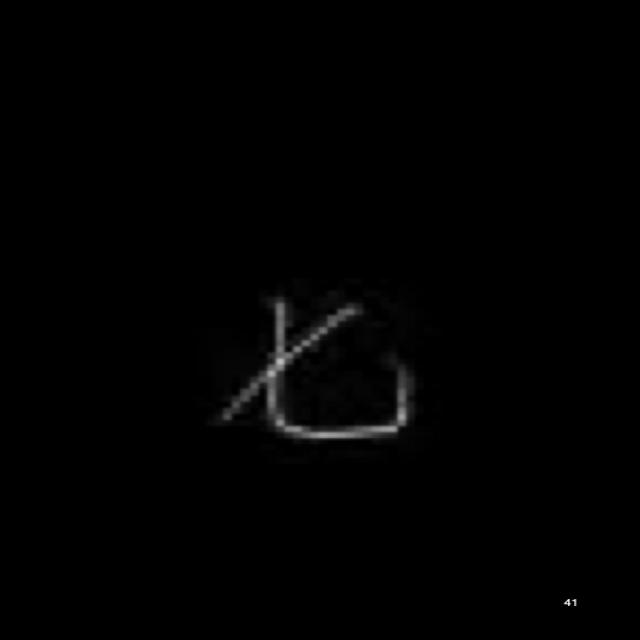7 -seven-: (215, 294, 425, 448)
